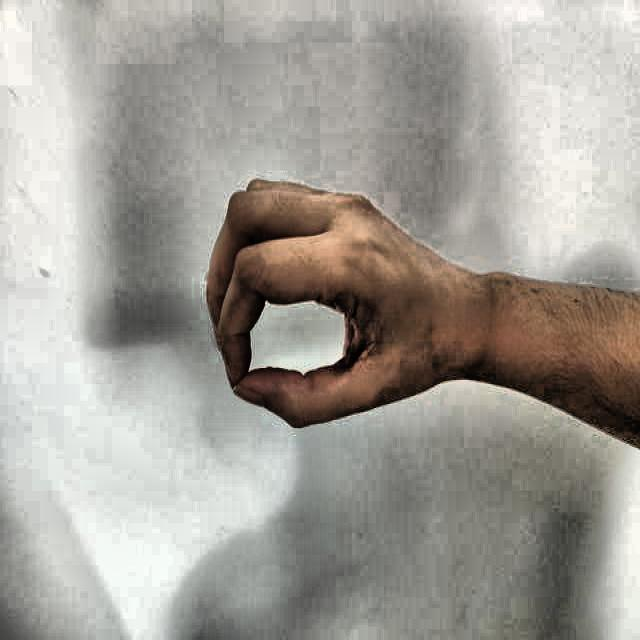O: (181, 145, 486, 468)
